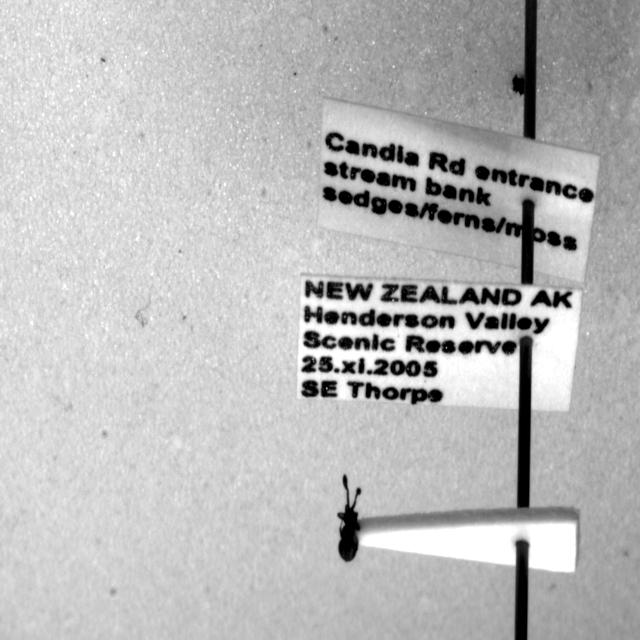typed_label: (318, 98, 599, 283), (298, 276, 582, 411)
